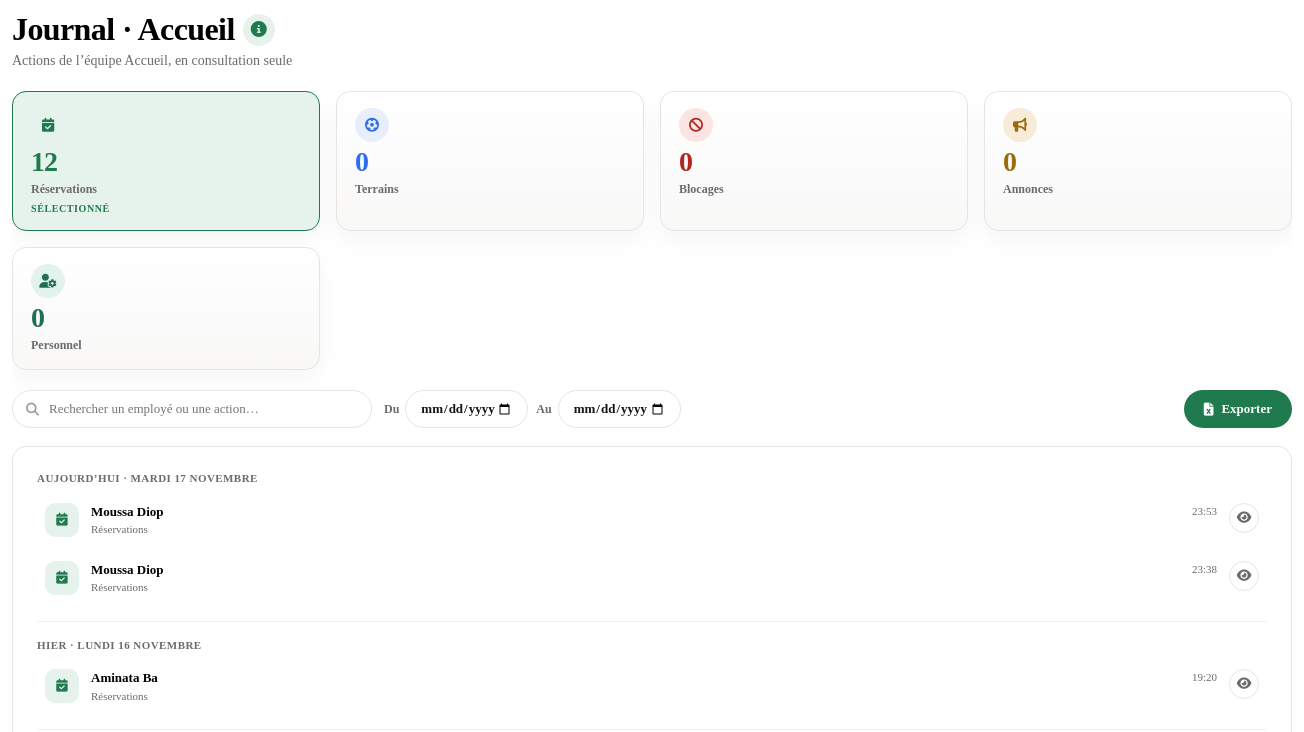
Test case: Journal d’audit page › filters by domain through the stat cards, and offers a reset when nothing matches
Later steps or results of the test are not shown.
Click the tab "0 Personnel" at (48,281), box [12,247,320,370]
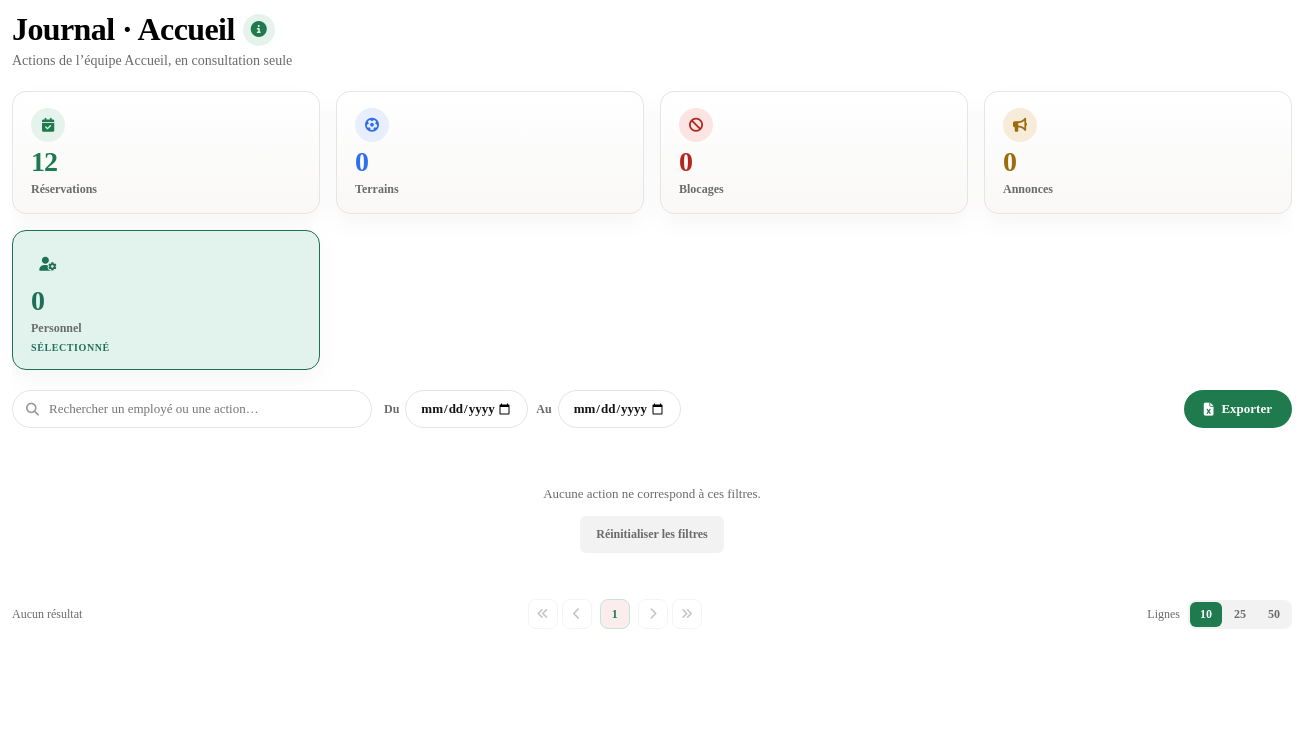
Expected: the text "Aucune action ne correspond à ces filtres." is shown, [543,486,761,501]
